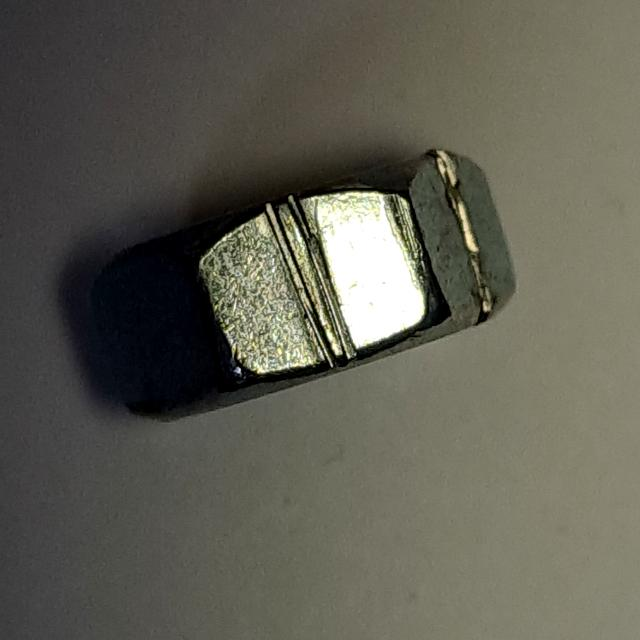Side_Scratches: (72, 136, 533, 433)
